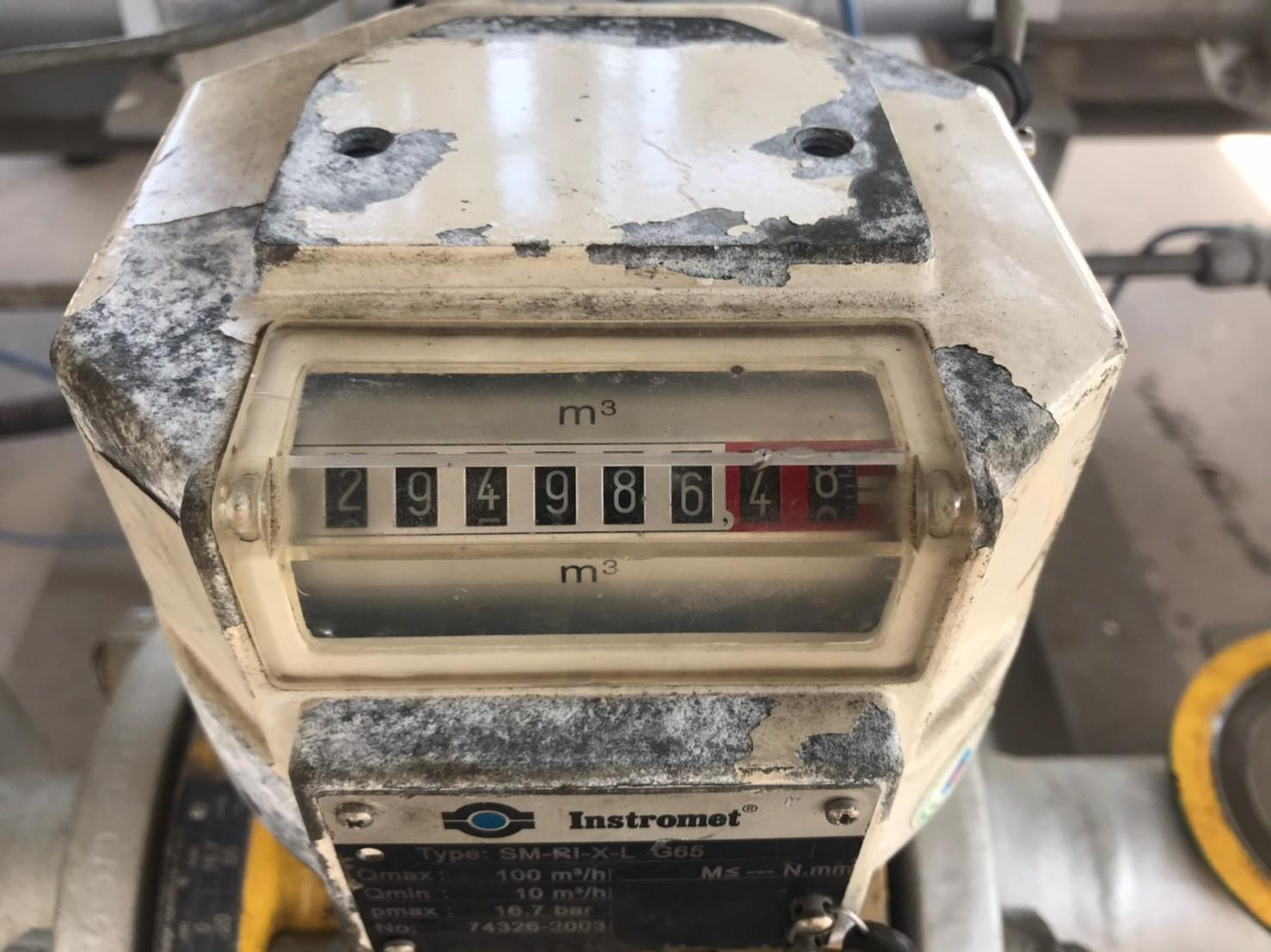analog_dial: (289, 465, 902, 546)
